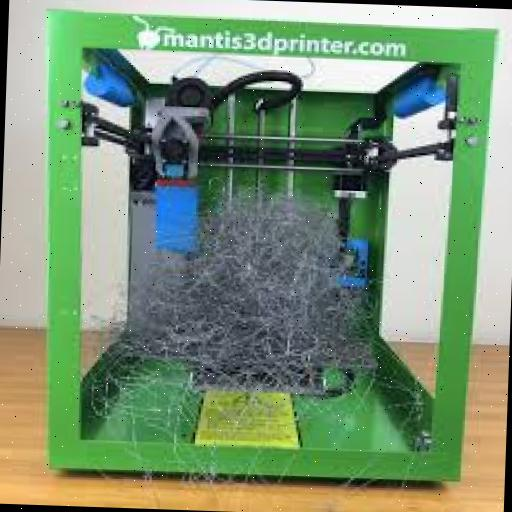spaghetti: (132, 174, 394, 434)
